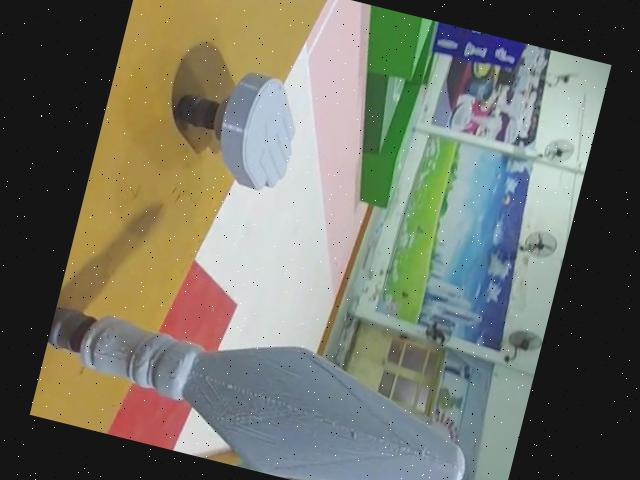Hand: (152, 57, 310, 199)
Sph: (30, 280, 491, 480)
